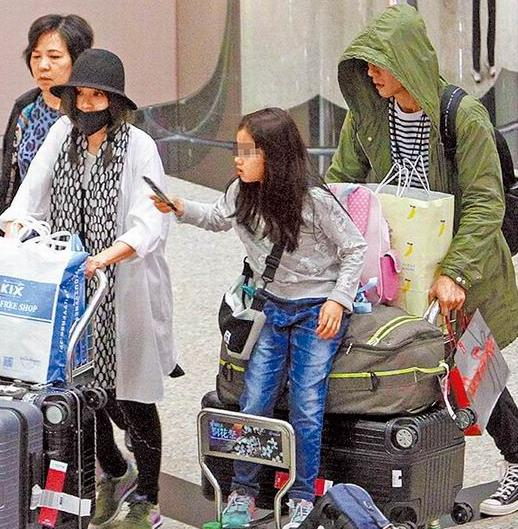NONE: (232, 134, 269, 185), (33, 39, 70, 88), (369, 51, 403, 97)
WRONG: (71, 87, 112, 136)
